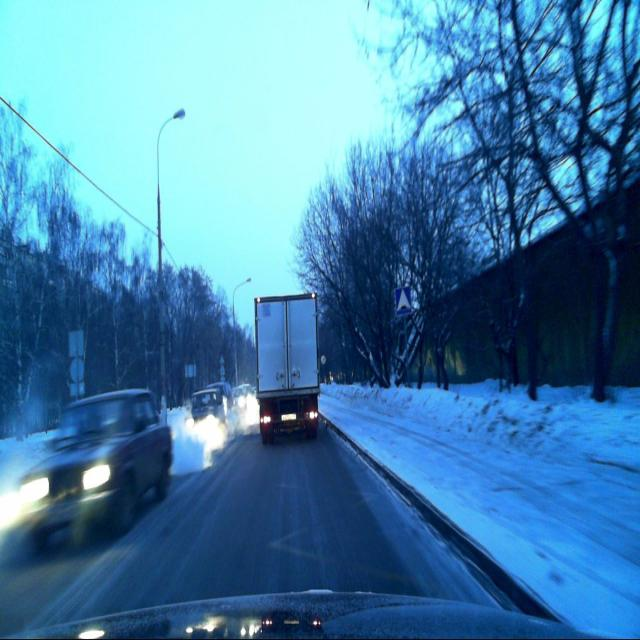object: (404, 320, 410, 385)
road sign: (394, 284, 411, 316)
